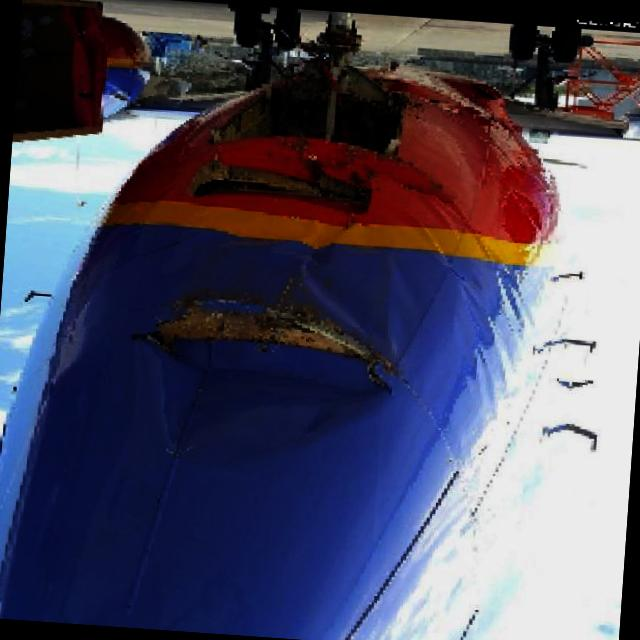crack: (361, 369, 394, 393)
dent: (150, 353, 393, 472), (303, 259, 394, 339)
